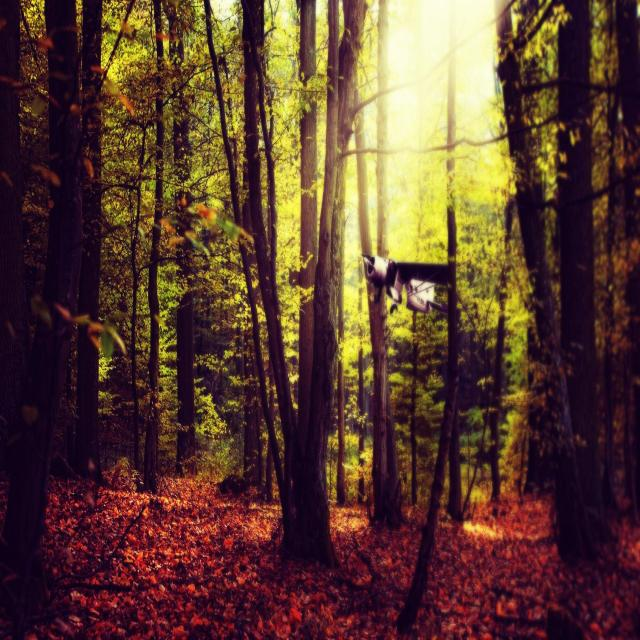airplane: (361, 252, 455, 316)
